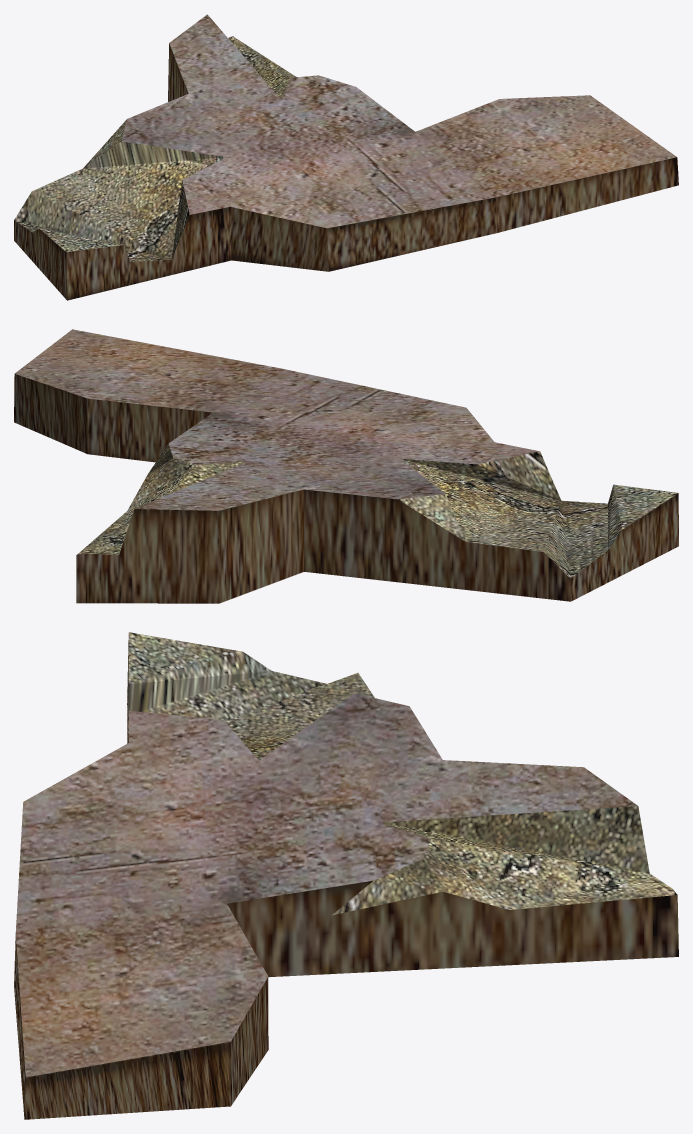
File: large_rubble_var1.fbx
3 renders of one model, top to bottom at view 1: azimuth 30°, elevation 25°; view 2: azimuth 150°, elevation 25°; view 3: azimuth 270°, elevation 25°, orthographic. The views are drawn at different scales.
Parts seen in each view (by area): view 1: mesh_0, mesh_2, mesh_1; view 2: mesh_2, mesh_0, mesh_1; view 3: mesh_0, mesh_2, mesh_1.
Boxes of the visible parts, x1=… form: mesh_0: x1=122, y1=14, x2=676, y2=228; mesh_2: x1=14, y1=43, x2=678, y2=300; mesh_1: x1=14, y1=36, x2=296, y2=262; mesh_2: x1=14, y1=374, x2=678, y2=603; mesh_0: x1=15, y1=329, x2=539, y2=510; mesh_1: x1=76, y1=444, x2=677, y2=578; mesh_0: x1=15, y1=693, x2=637, y2=1077; mesh_2: x1=14, y1=640, x2=678, y2=1119; mesh_1: x1=128, y1=632, x2=677, y2=915.
Bounding box in the file's own units: 219 × 30.28 × 148.
3 materials, 3 textured.
